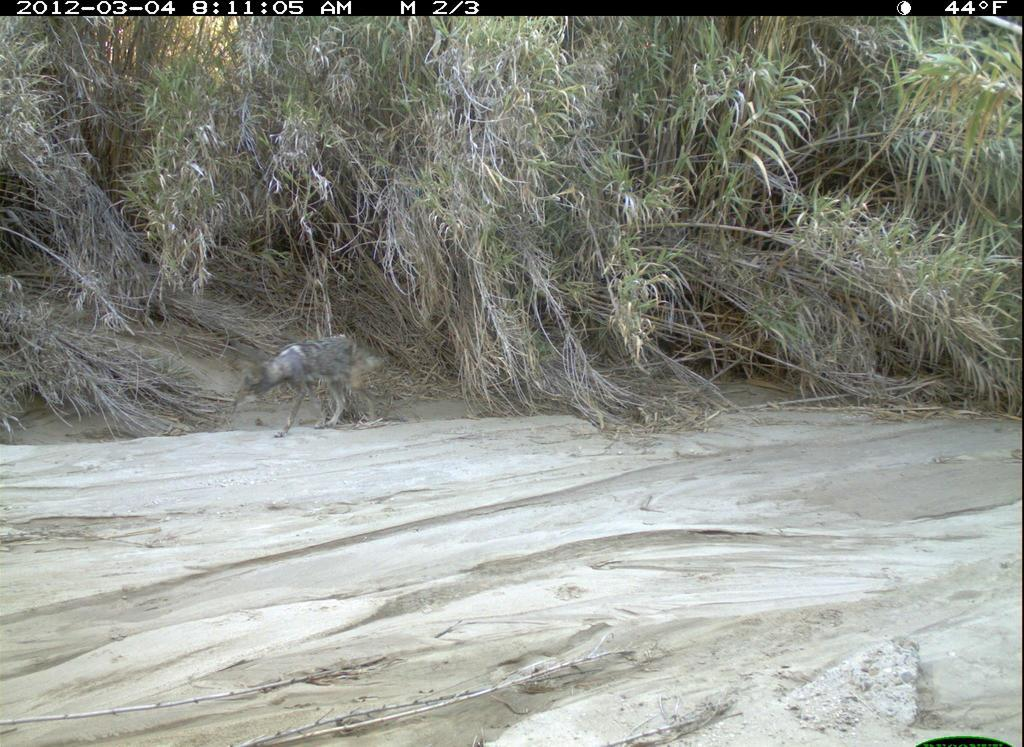coyote: (237, 317, 386, 445)
